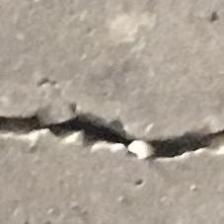Crack: (0, 90, 224, 172)
